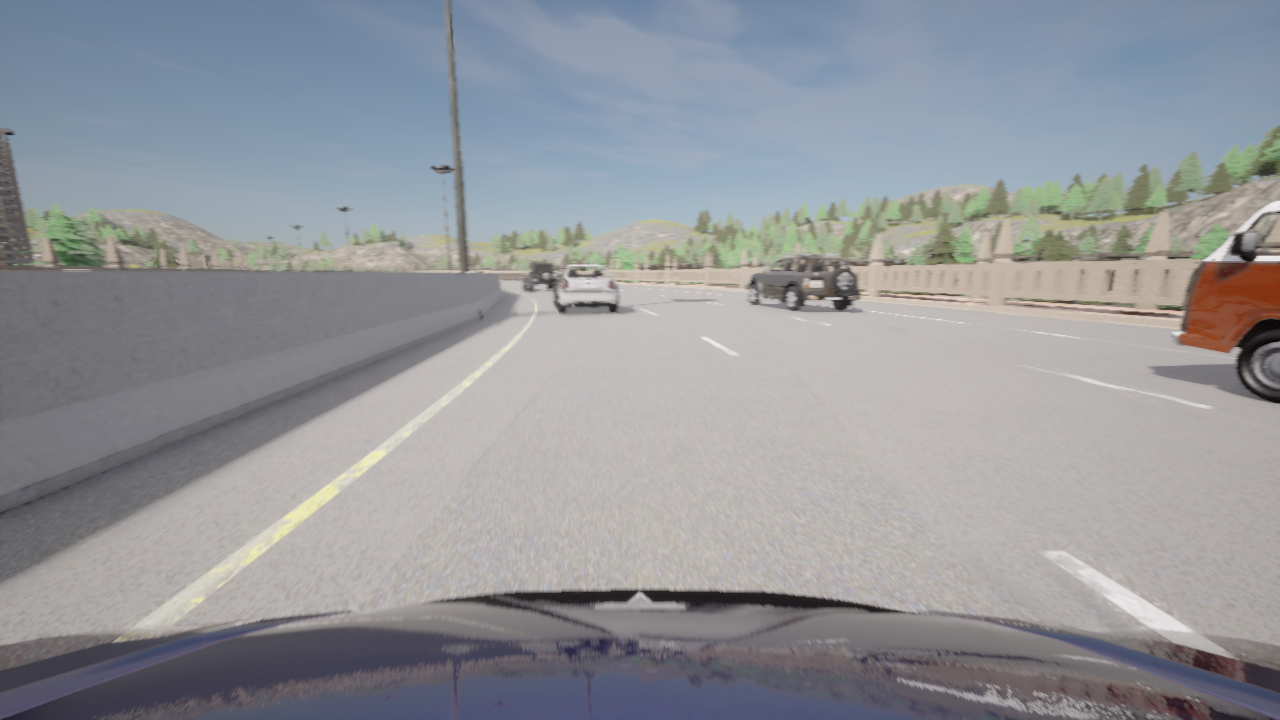cyclist: (0, 588, 1279, 719), (1172, 200, 1279, 404), (745, 253, 859, 311), (553, 264, 618, 313), (523, 263, 556, 291)
pedestrian: (129, 260, 140, 267)
